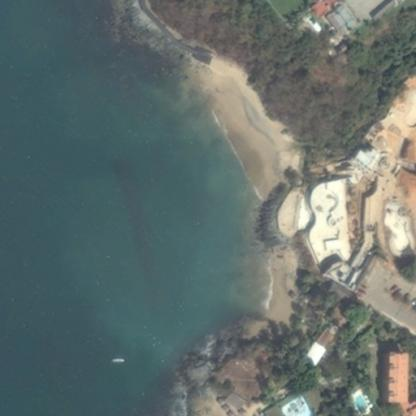ship: (102, 352, 130, 366)
